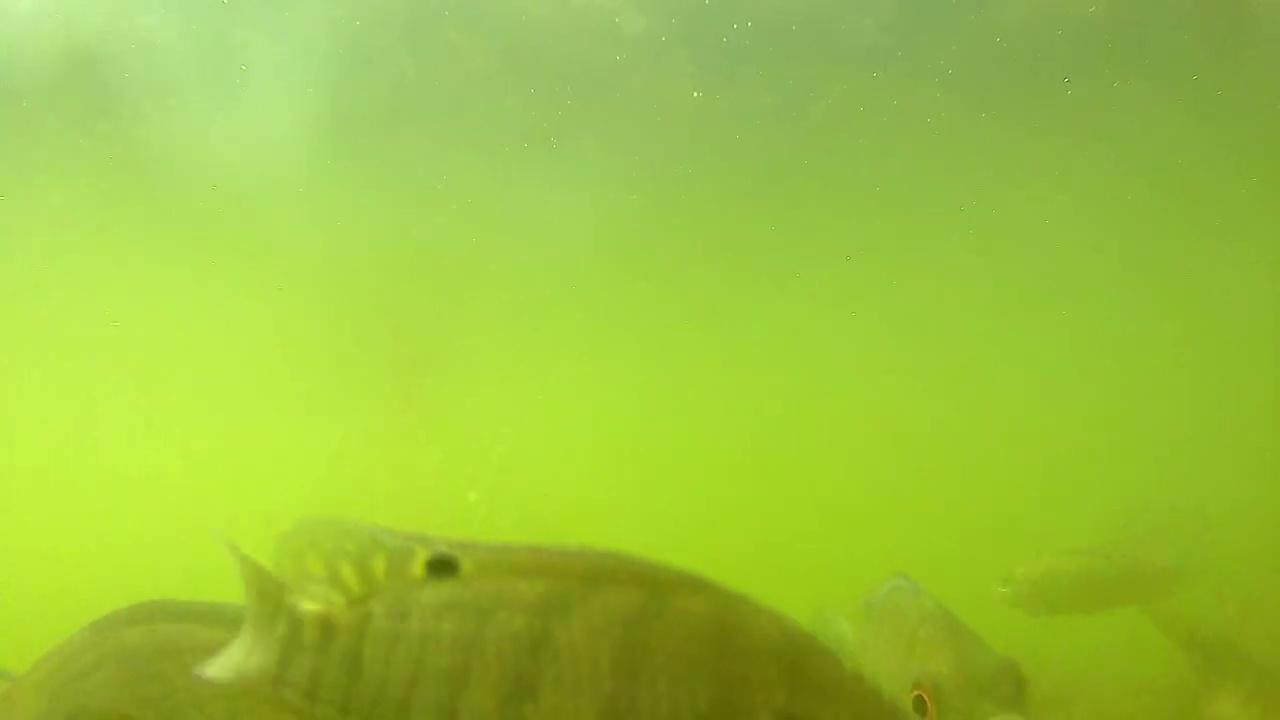Tilapia: (221, 508, 892, 720), (839, 556, 1032, 720)
